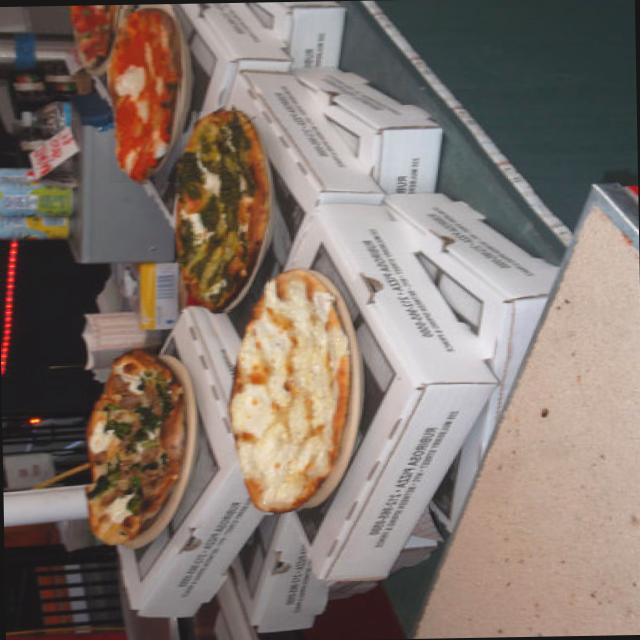pizza: (228, 270, 349, 512), (87, 348, 185, 544), (175, 110, 267, 310), (107, 8, 179, 180), (70, 4, 118, 66)
